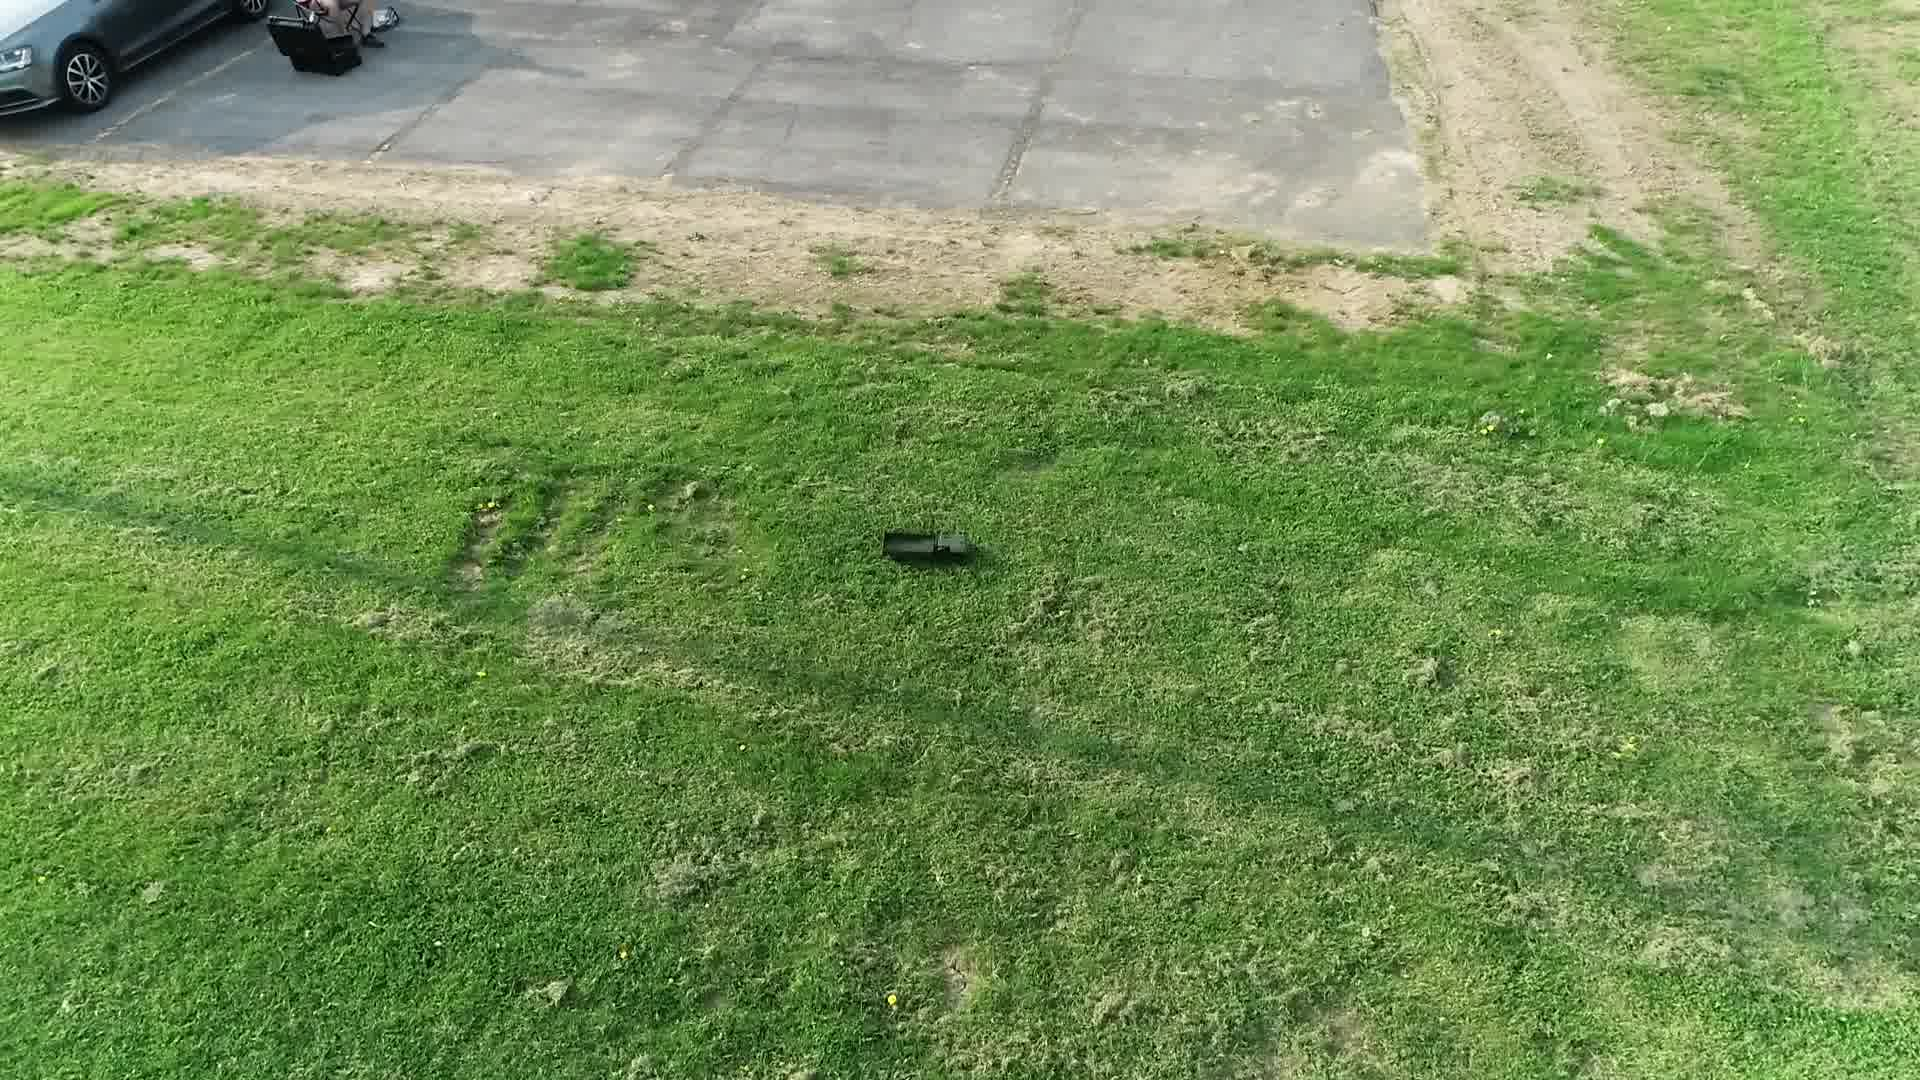transporter9: (876, 524, 981, 568)
